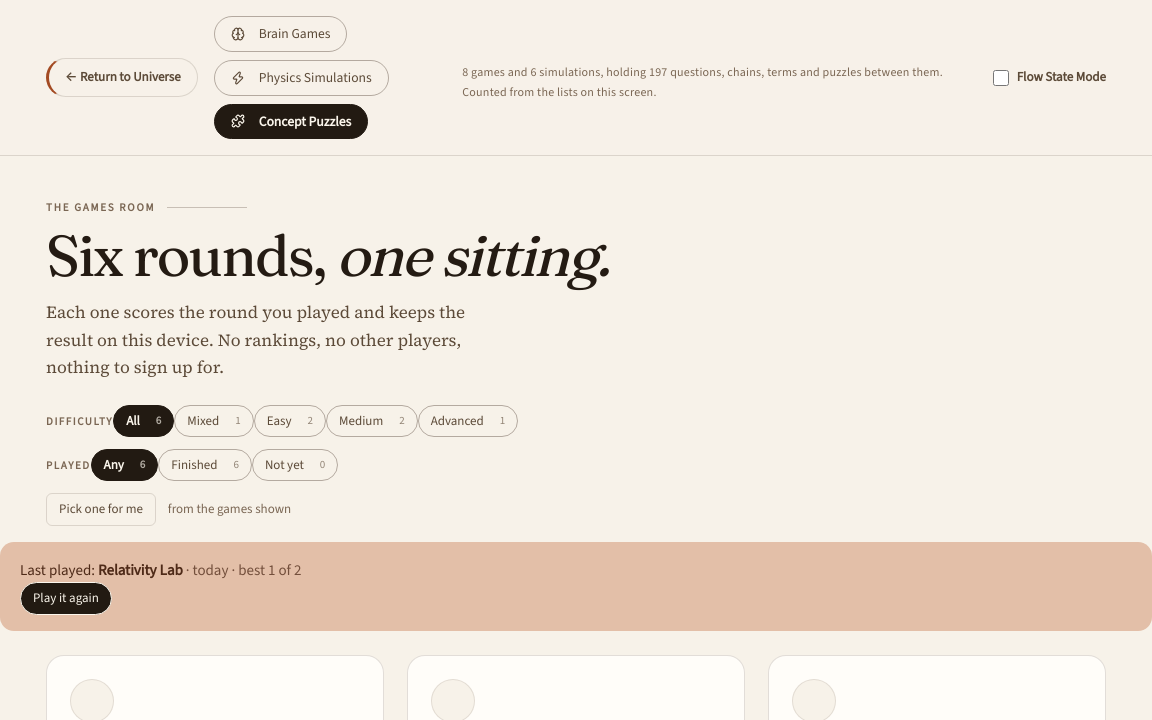
it: what each game has actually produced › a filter with nothing in it leaves nothing to pick
Click the button "Not yet 0". click: click(295, 465)
box: x1=252 y1=449 x2=338 y2=481
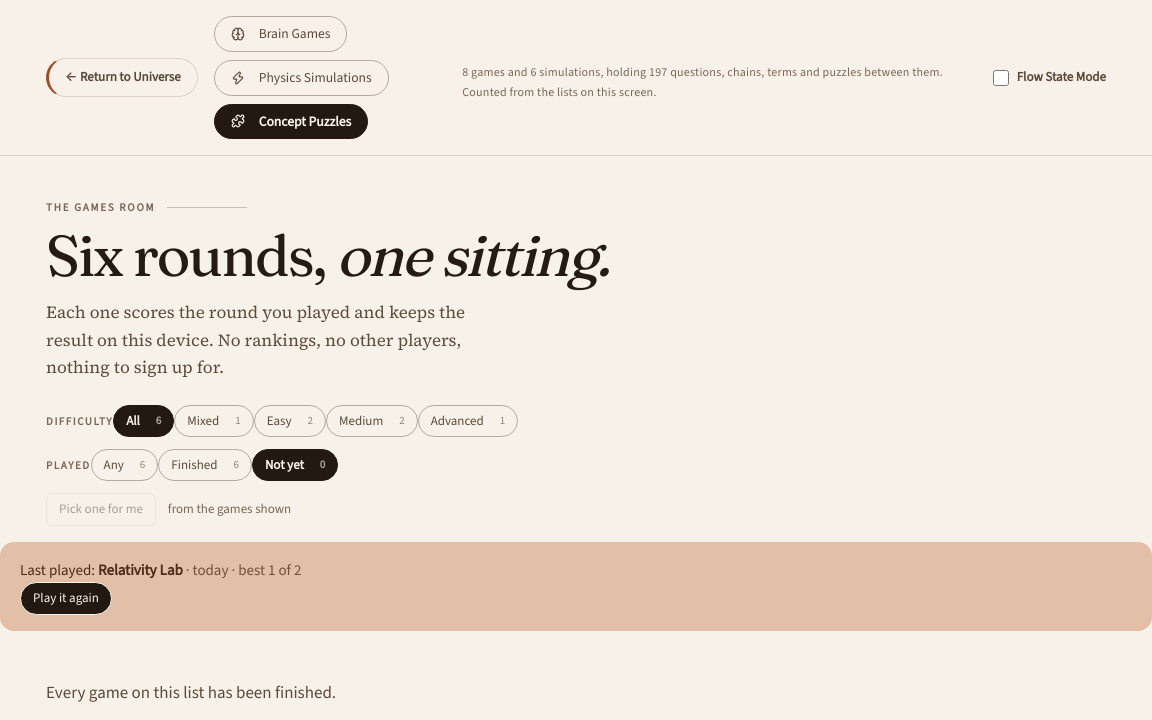
Check: the button with test id "games-pick" is disabled, box x1=46 y1=493 x2=156 y2=526
